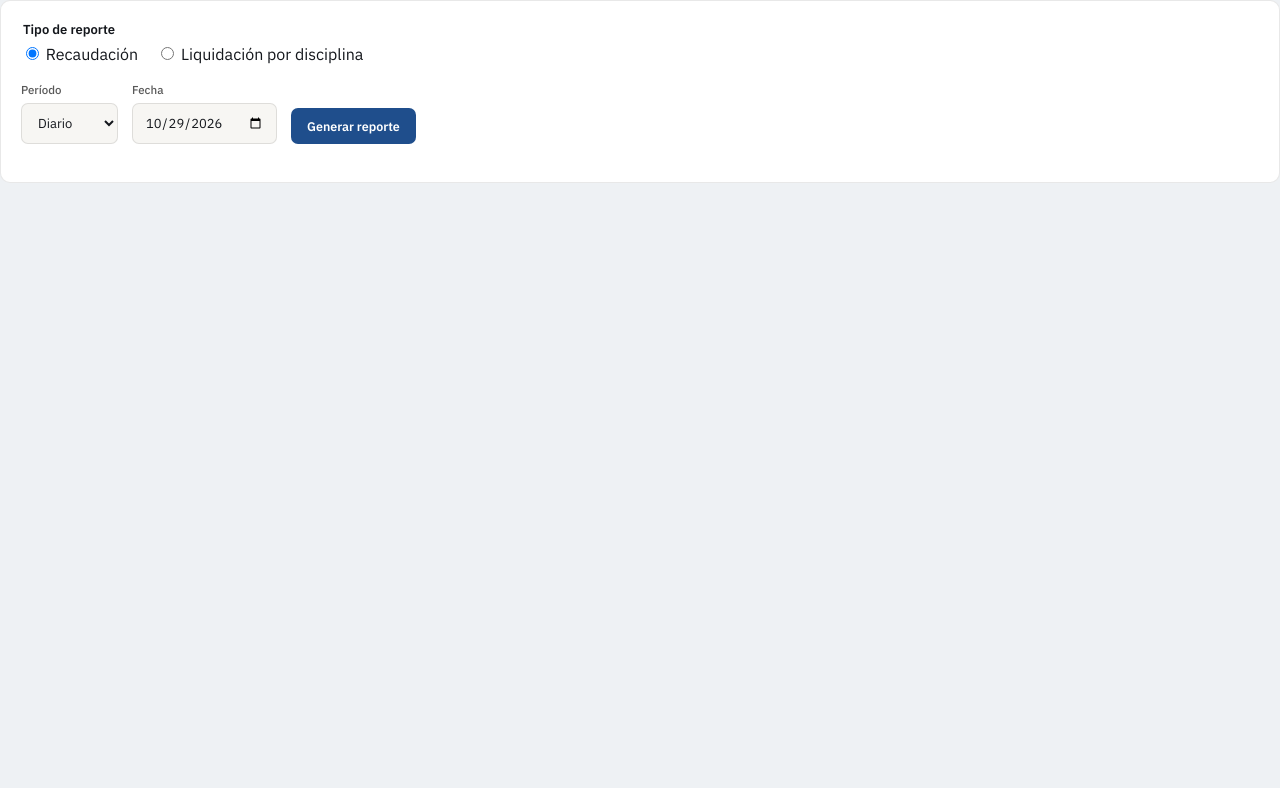
it: ReportsView: revenue › requests the period chosen and shows the range the server worked out
In the date field labelled "Fecha": [204, 124] box [132,103,277,144], type "2026-10-07"
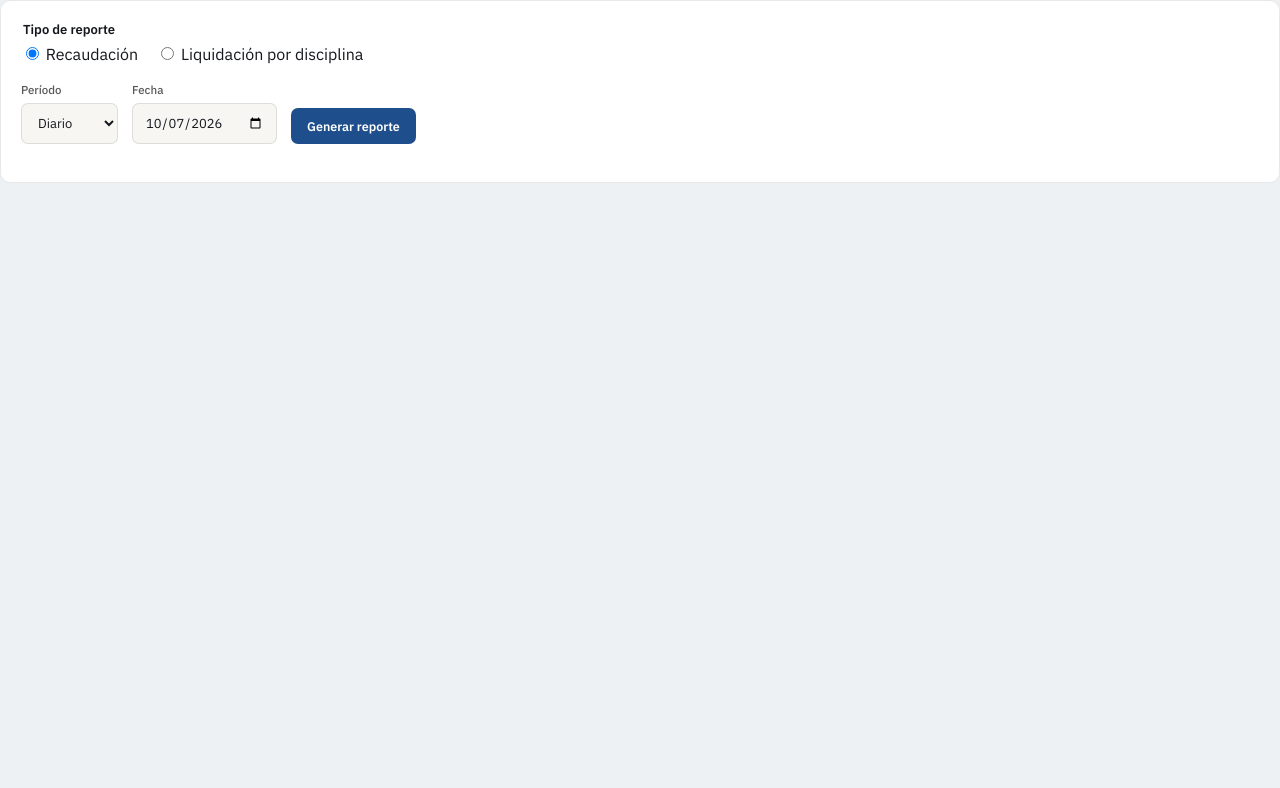
Select "Semanal" in the dropdown labelled "Período": [70, 124] box [21,103,118,144]
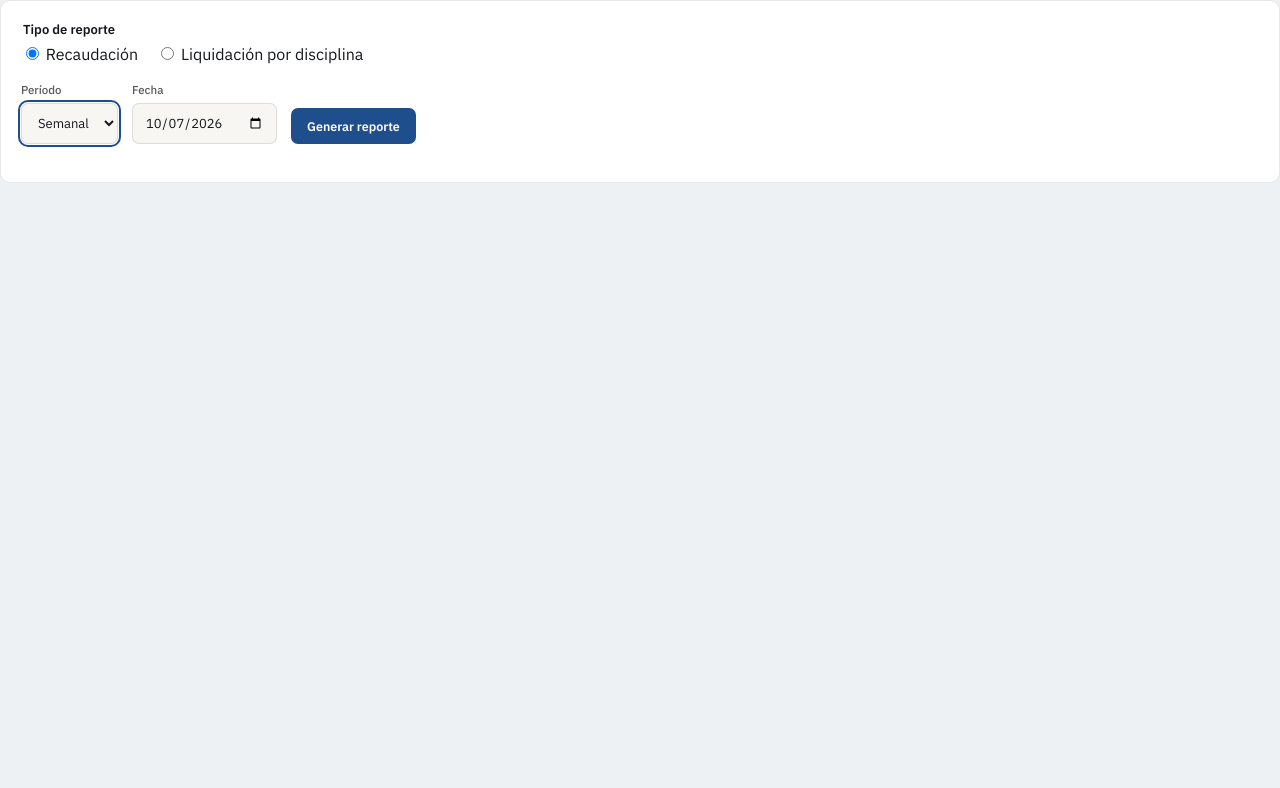
Click the button "Generar reporte": [353, 126] box [291,108,416,144]
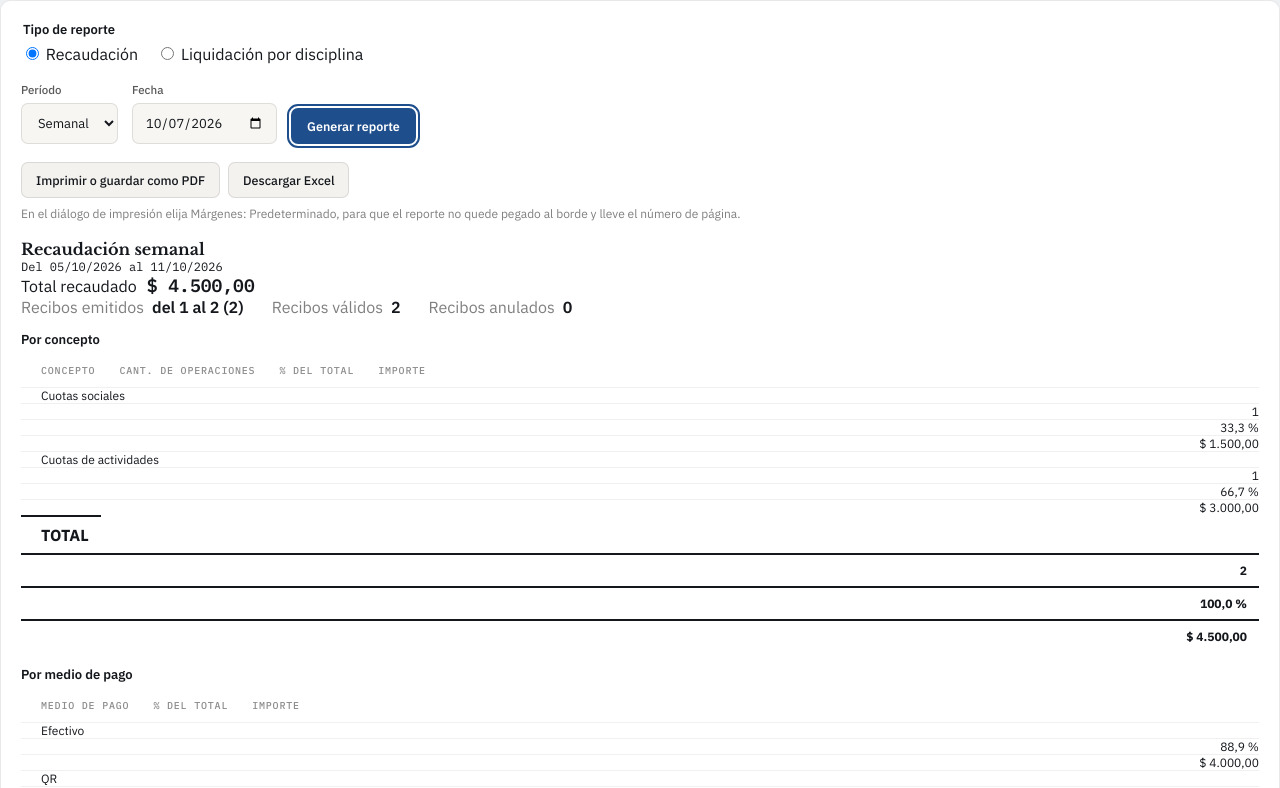
Expected: the text "Del 05/10/2026 al 11/10/2026" is shown, [21,259,223,274]
